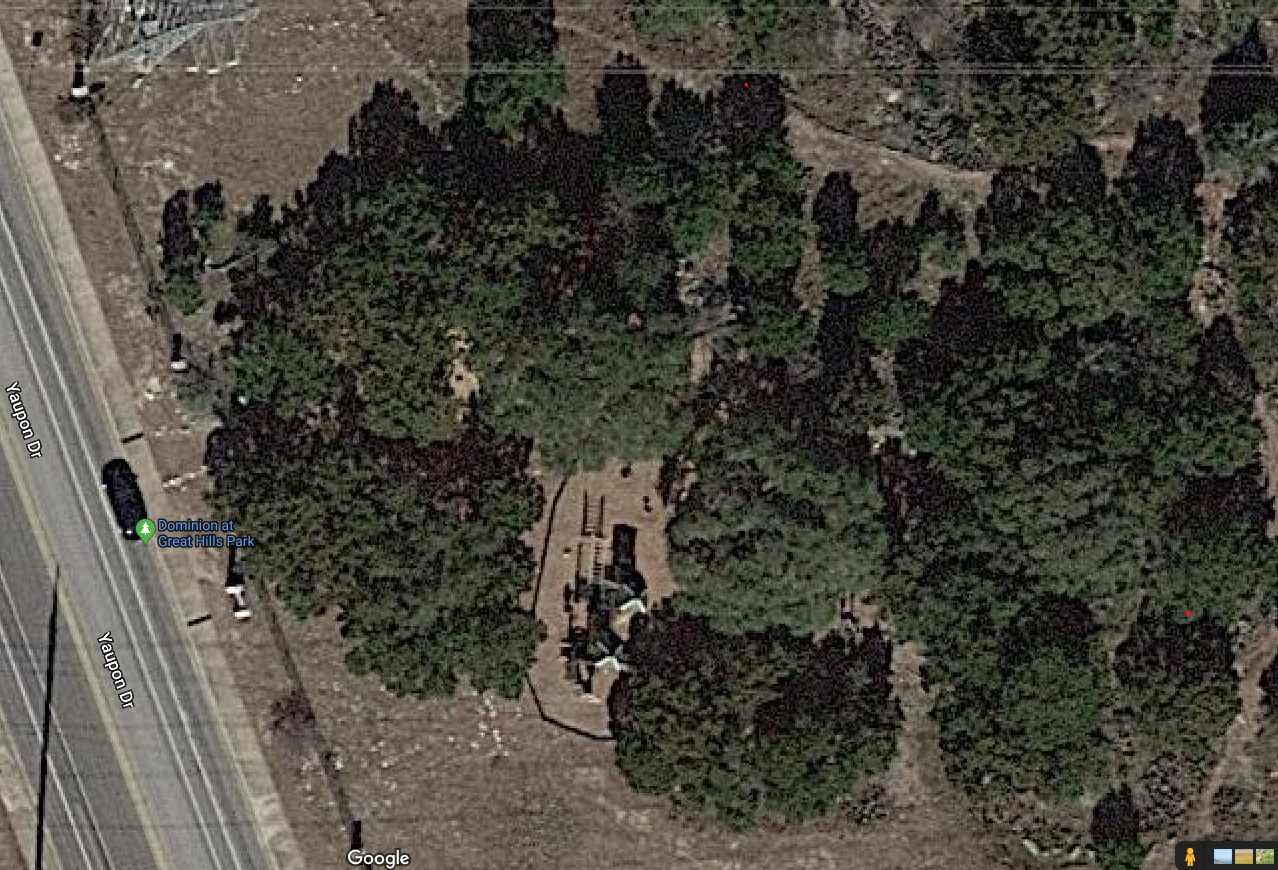playscape: (518, 472, 741, 758)
